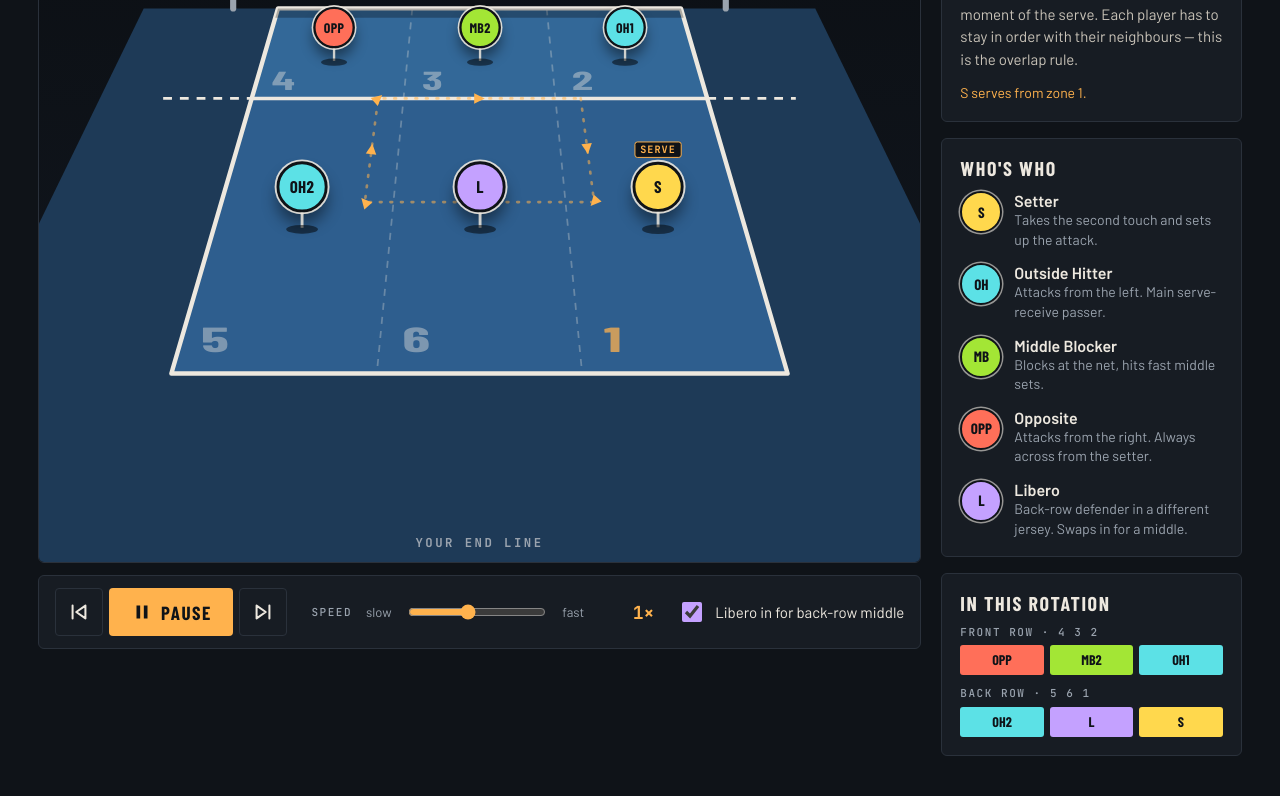
Test case: speed slider updates the label
(page scrolled)
Set the slider labelled "SPEED" to "2" at [538, 612], box [408,590,546,634]
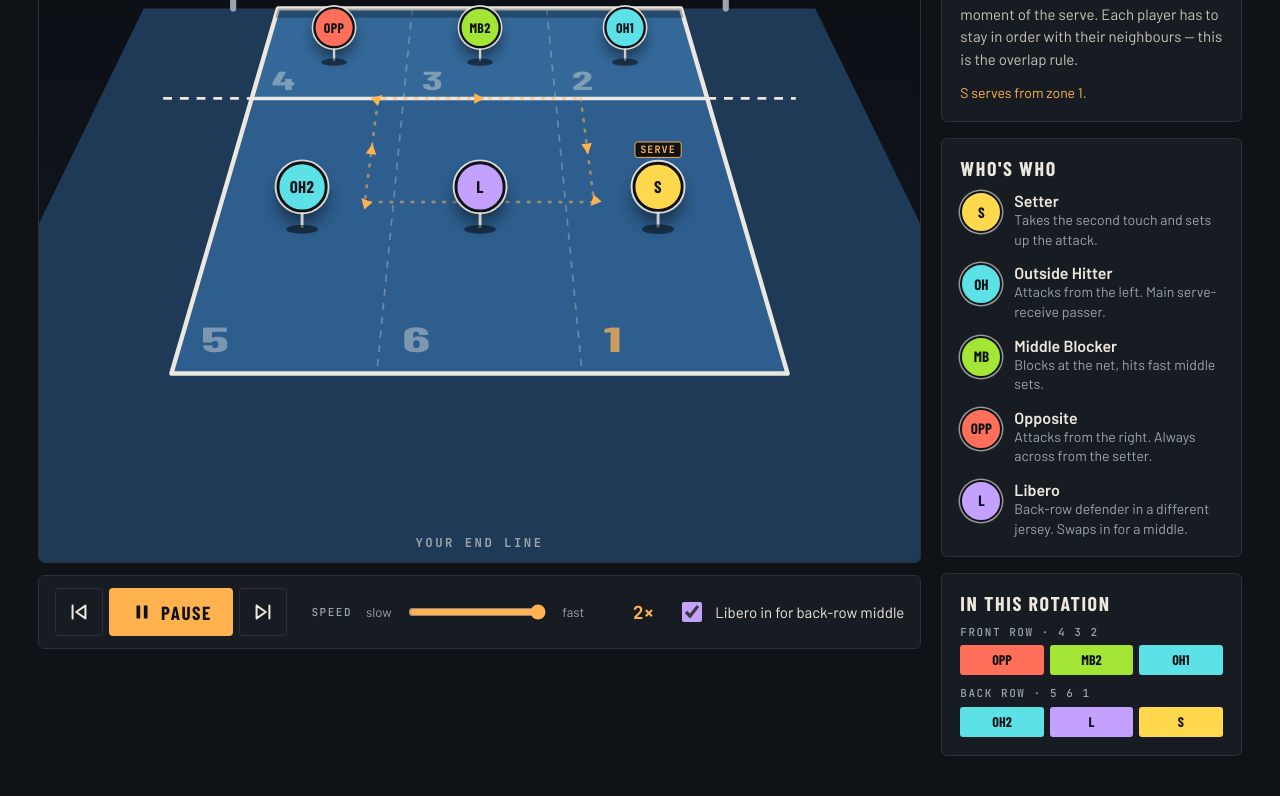
Now the text "2×" is shown, box [633,601,654,624]
